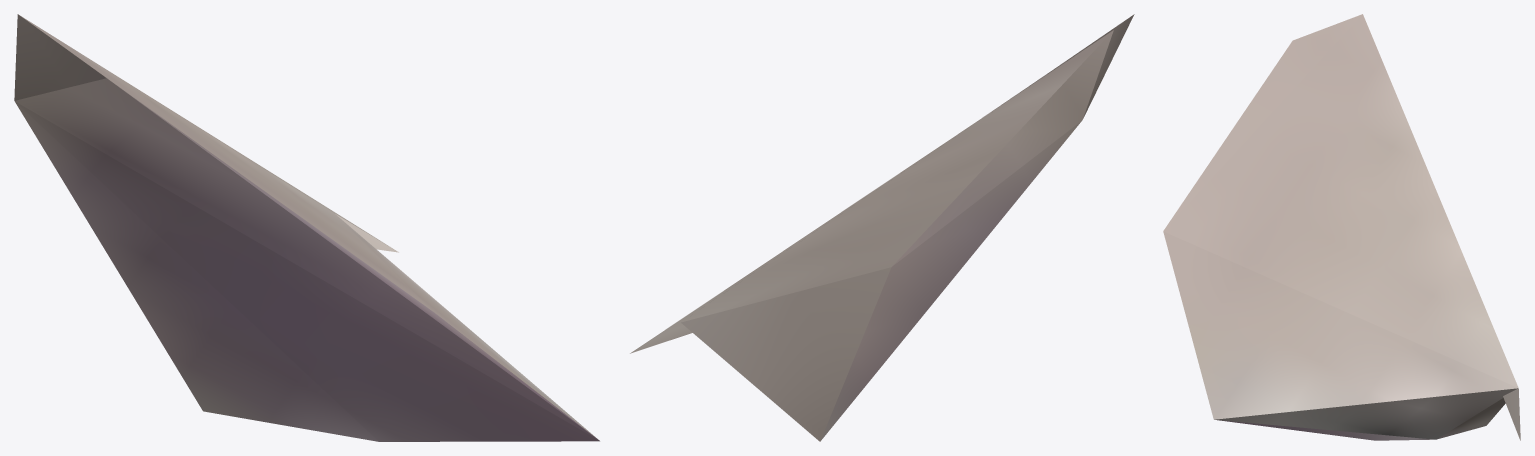
The picture shows the model from 3 angles, left to right: view 1: azimuth 30°, elevation 25°; view 2: azimuth 150°, elevation 25°; view 3: azimuth 270°, elevation 25°; orthographic projection. The views are drawn at different scales.
Bounding box in the file's own units: 0.0241 × 0.0244 × 0.0242.
1 material, 1 textured.
